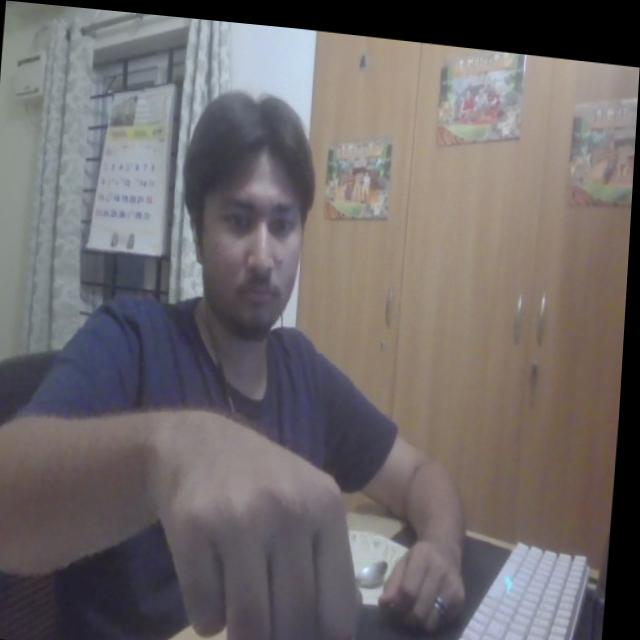yes: (143, 393, 405, 640)
